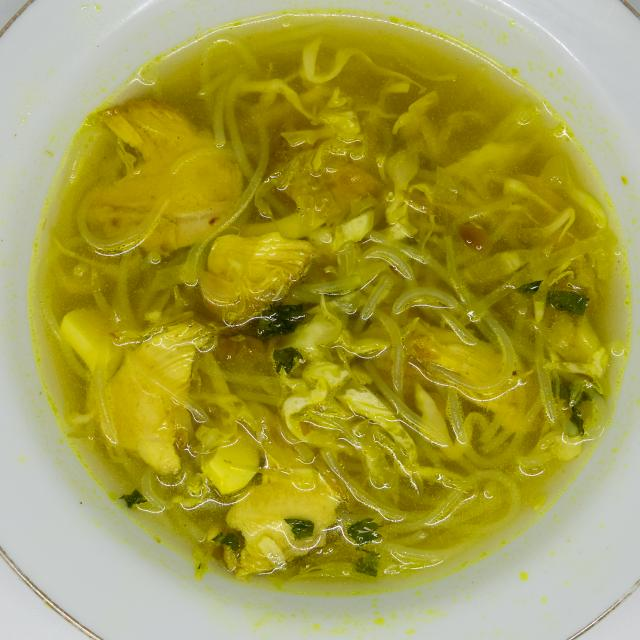Soto-Lamongan: (43, 22, 617, 596)
